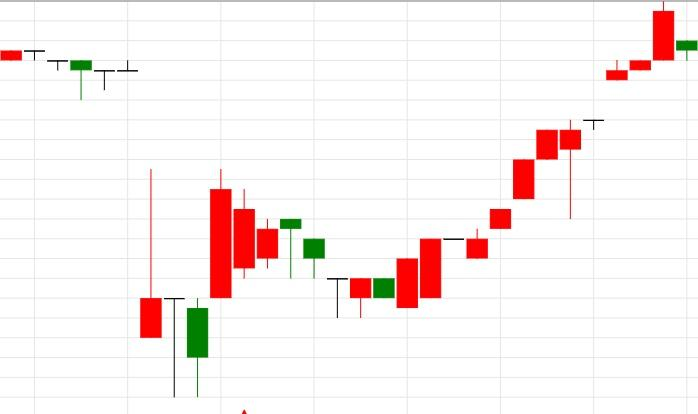bullish_engulfing_rise: (209, 168, 419, 318)
